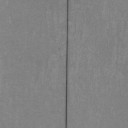surface scratch: (65, 0, 69, 128)
